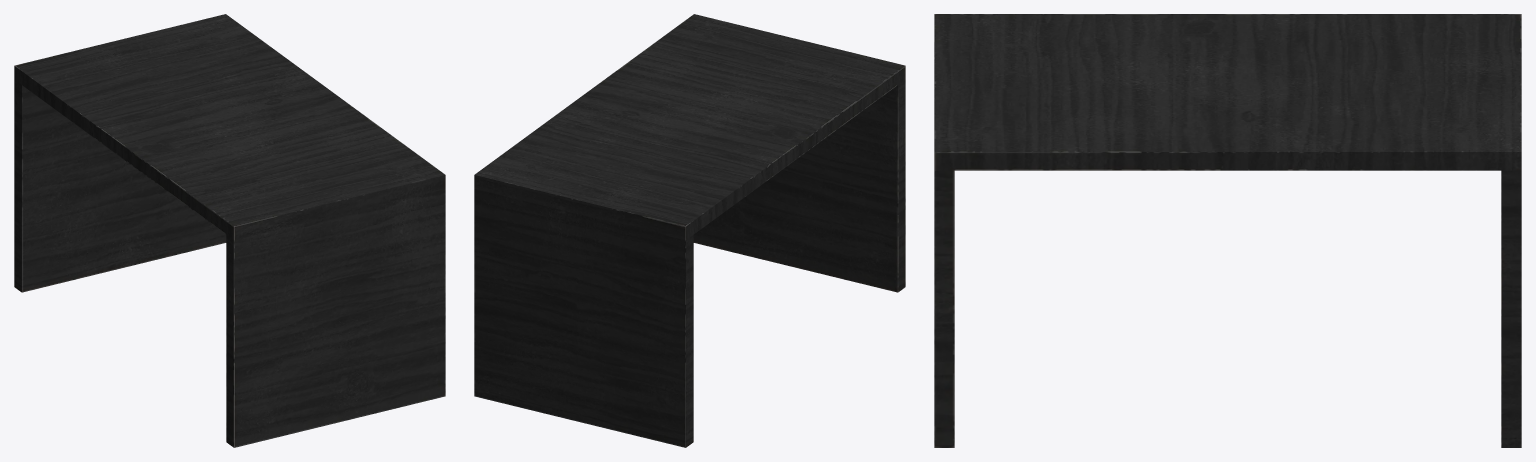
3 views of the same model, side by side, from view 1: azimuth 30°, elevation 25°; view 2: azimuth 150°, elevation 25°; view 3: azimuth 270°, elevation 25° (orthographic). The views are drawn at different scales.
Parts seen in each view (by area): view 1: OfficeTable_Tables_0.001; view 2: OfficeTable_Tables_0.001; view 3: OfficeTable_Tables_0.001.
Boxes of the visible parts, x1,y1,x2,y2 form: OfficeTable_Tables_0.001: [14, 14, 445, 447]; OfficeTable_Tables_0.001: [474, 14, 905, 447]; OfficeTable_Tables_0.001: [934, 14, 1521, 447].
Size of the model in its own units: 0.8 by 0.8 by 1.44.
1 material, 1 textured.
